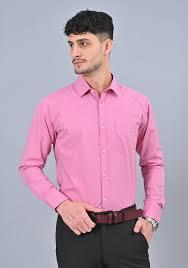shirt: (18, 73, 166, 227)
